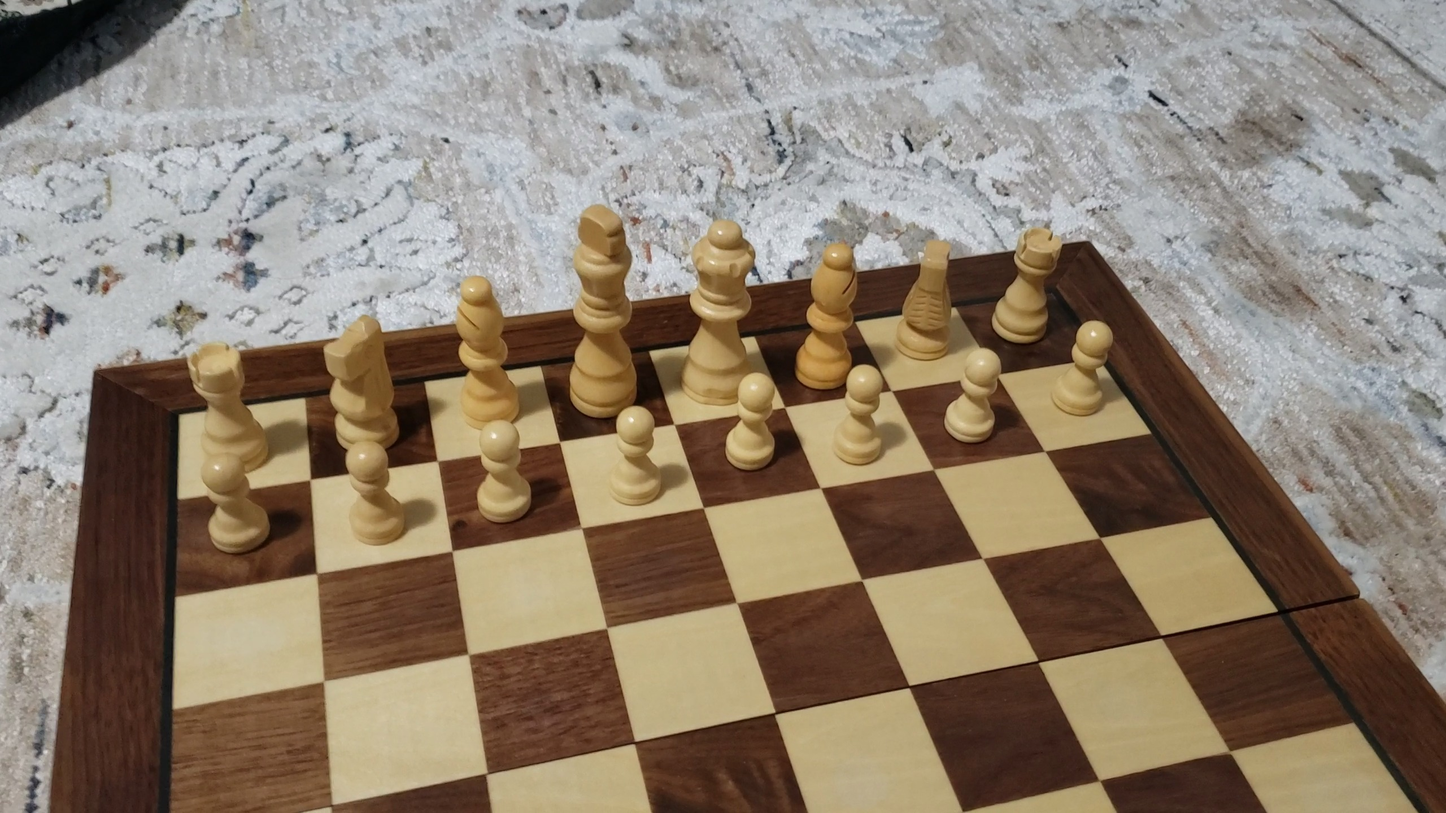white-bishop: (450, 270, 522, 436), (792, 237, 864, 394)
white-king: (563, 197, 641, 423)
white-knight: (311, 311, 421, 459), (892, 234, 956, 365)
white-pawn: (194, 450, 276, 560), (338, 439, 412, 552), (1045, 317, 1119, 422), (468, 418, 538, 529), (937, 346, 1009, 450), (718, 369, 786, 477), (601, 403, 669, 511), (826, 361, 893, 470)
white-queen: (684, 208, 765, 410)
white-rook: (185, 339, 275, 474), (988, 222, 1064, 348)
